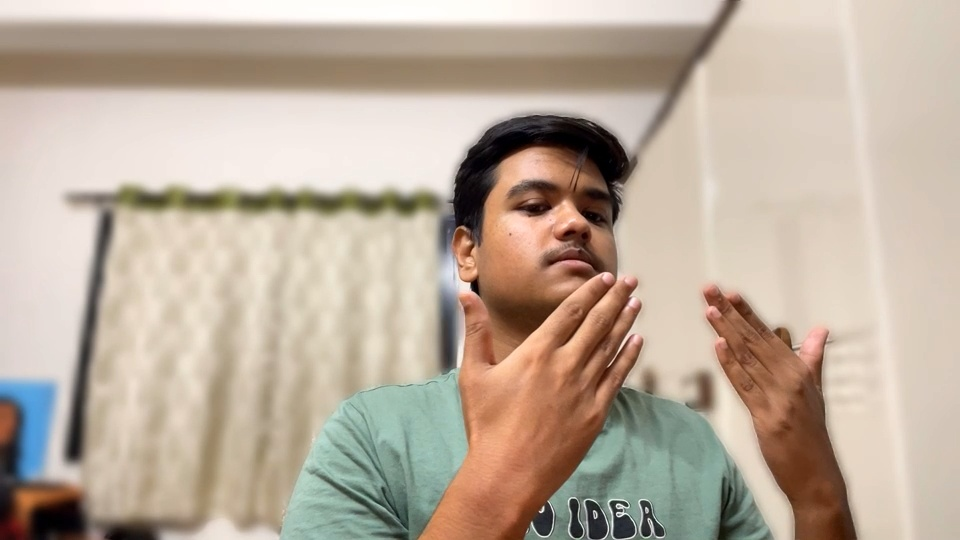ThankYou: (437, 266, 872, 516)
